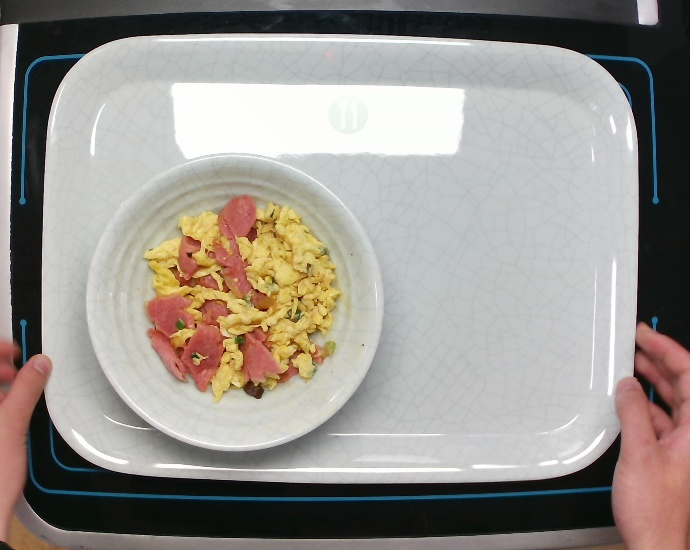JYsf-Xiao_Tang_Wan: (82, 145, 389, 454)
